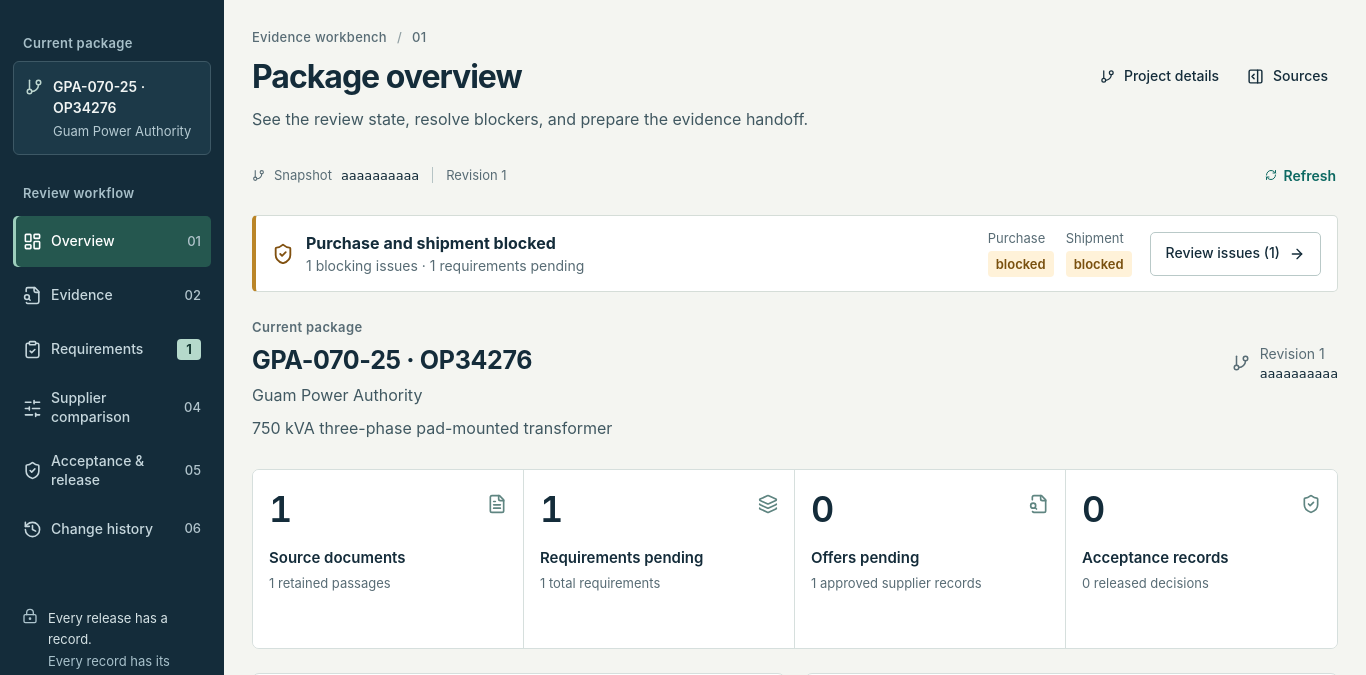
Scenario: evidence workbench › traverses actual document lineage into a linked requirement
Step 1. Click the button "Evidence 02" → (112, 296), box [13,270,211,321]
(page scrolled)
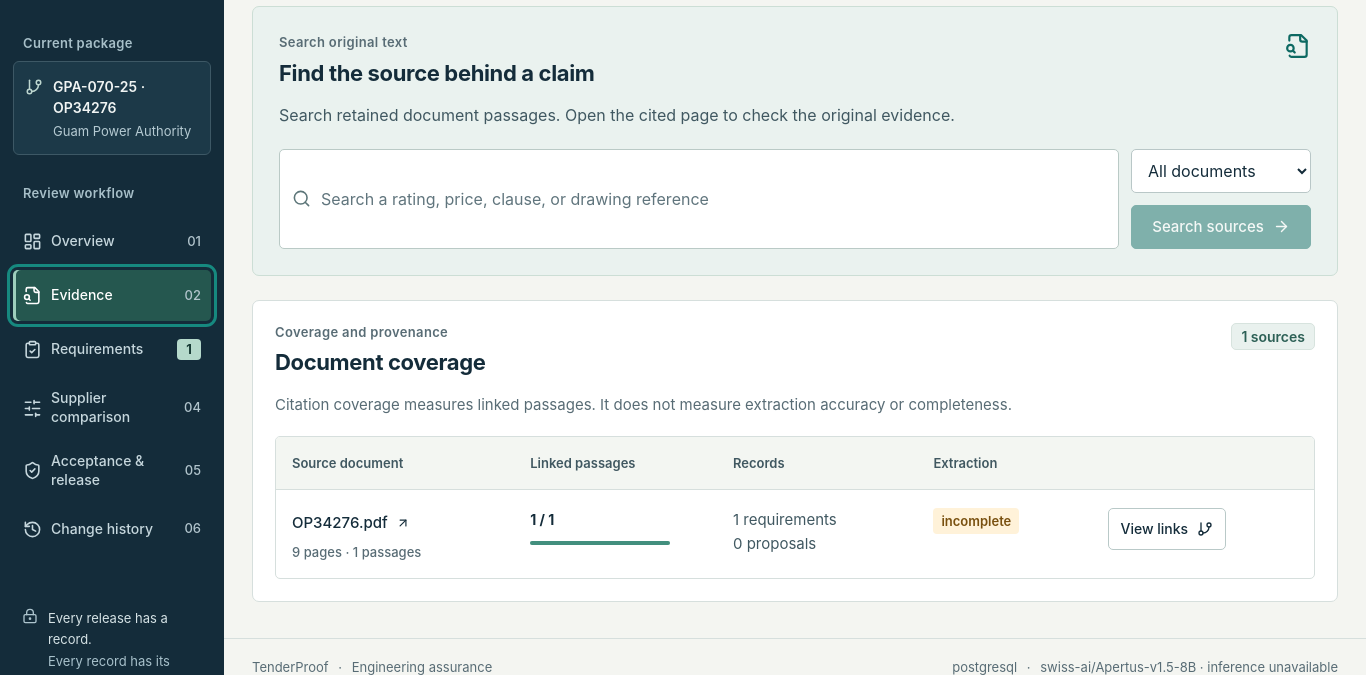
Step 2. Click the button with aria-label "View lineage for OP34276.pdf" → (1167, 529), box [1108,508,1226,550]
(page scrolled)
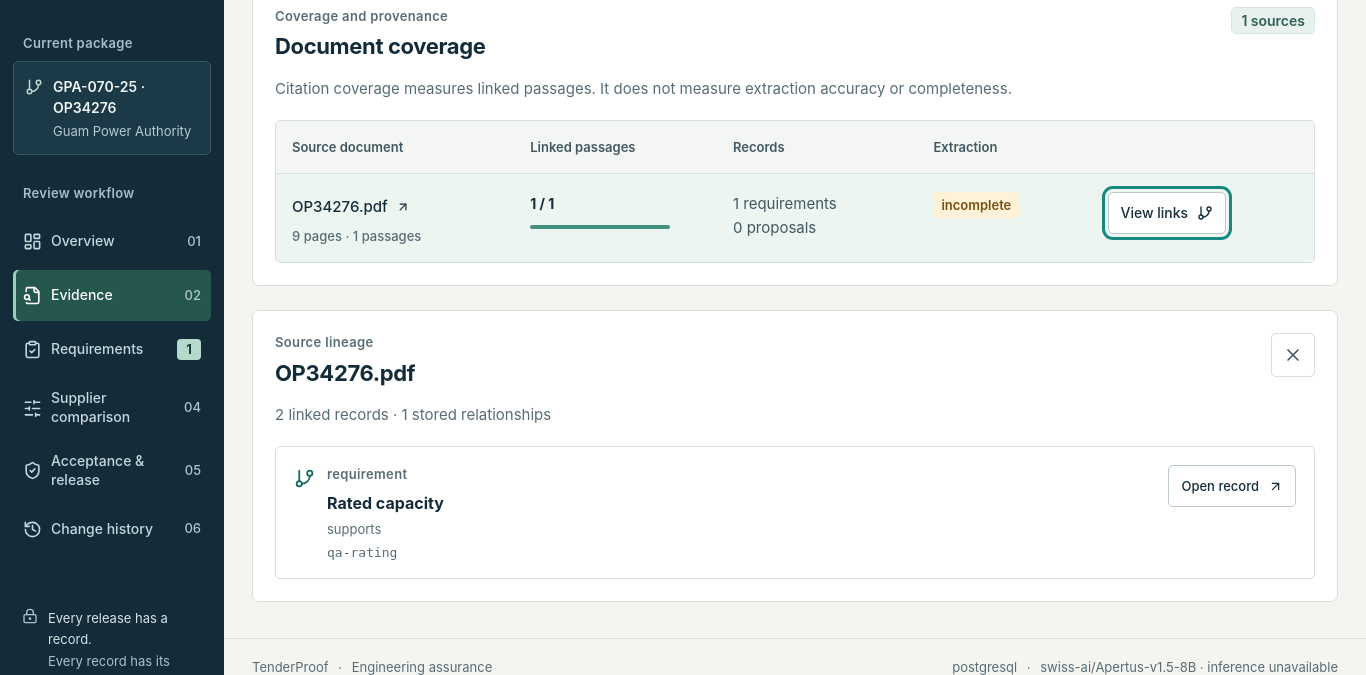
Expected: the text "supports" is shown, [327,521,381,537]
Step 3. Click the button with aria-label "Open Rated capacity" → (1232, 486), box [1168,465,1296,507]
(page scrolled)
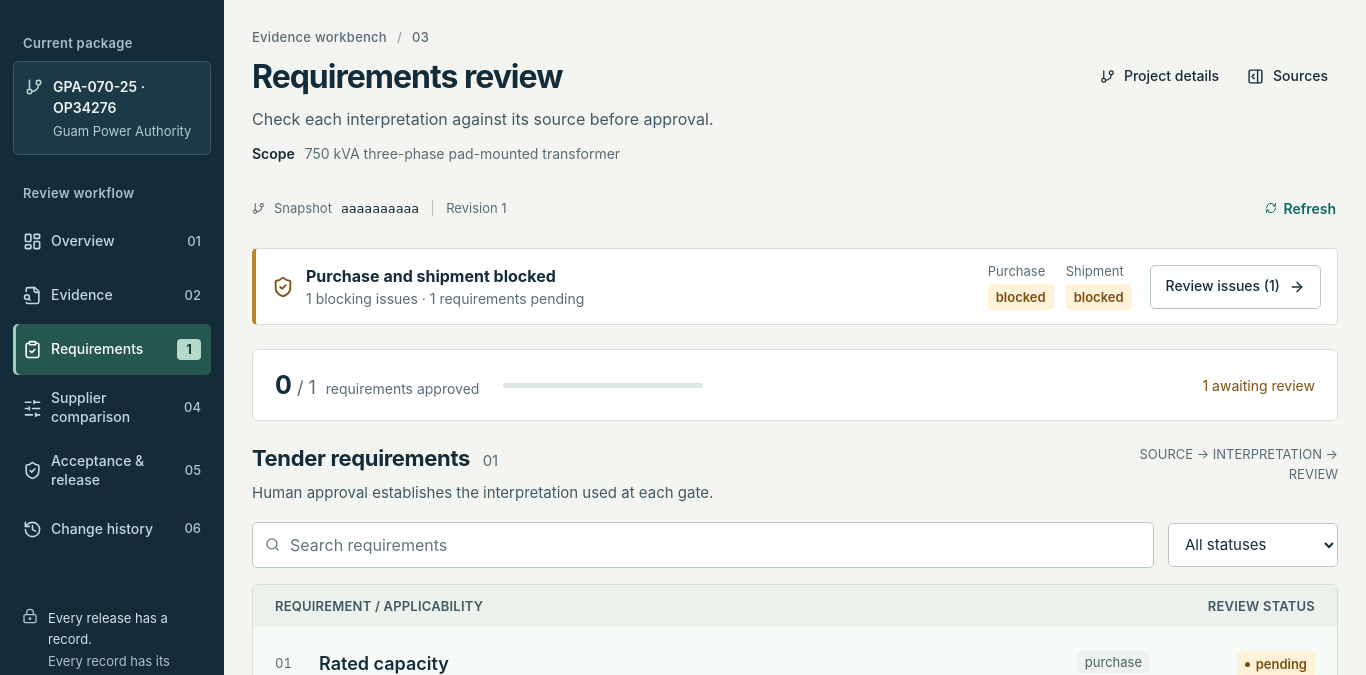
Expected: the heading "Requirements review" is shown, [252,57,562,96]
